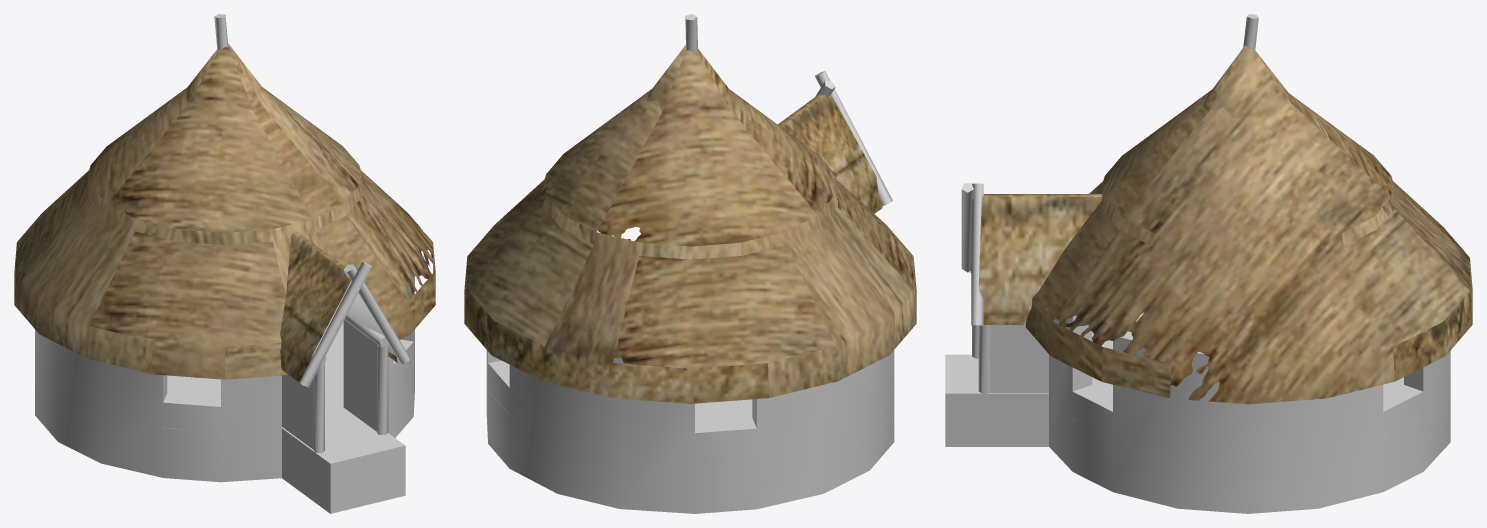
The model's file is building_hovel_small_2.glb.
3 views of the same model, side by side, from view 1: azimuth 30°, elevation 25°; view 2: azimuth 150°, elevation 25°; view 3: azimuth 270°, elevation 25° (orthographic). The views are drawn at different scales.
Parts seen in each view (by area): view 1: building_hovel_small_2; view 2: building_hovel_small_2; view 3: building_hovel_small_2.
Part boxes in pixels (x1,y1,x2,y2): building_hovel_small_2: (14,14,435,513); building_hovel_small_2: (464,14,916,513); building_hovel_small_2: (945,14,1472,513).
Size of the model in its own units: 4.63 by 4.59 by 5.35.
Materials: 2 (1 with a texture image).
